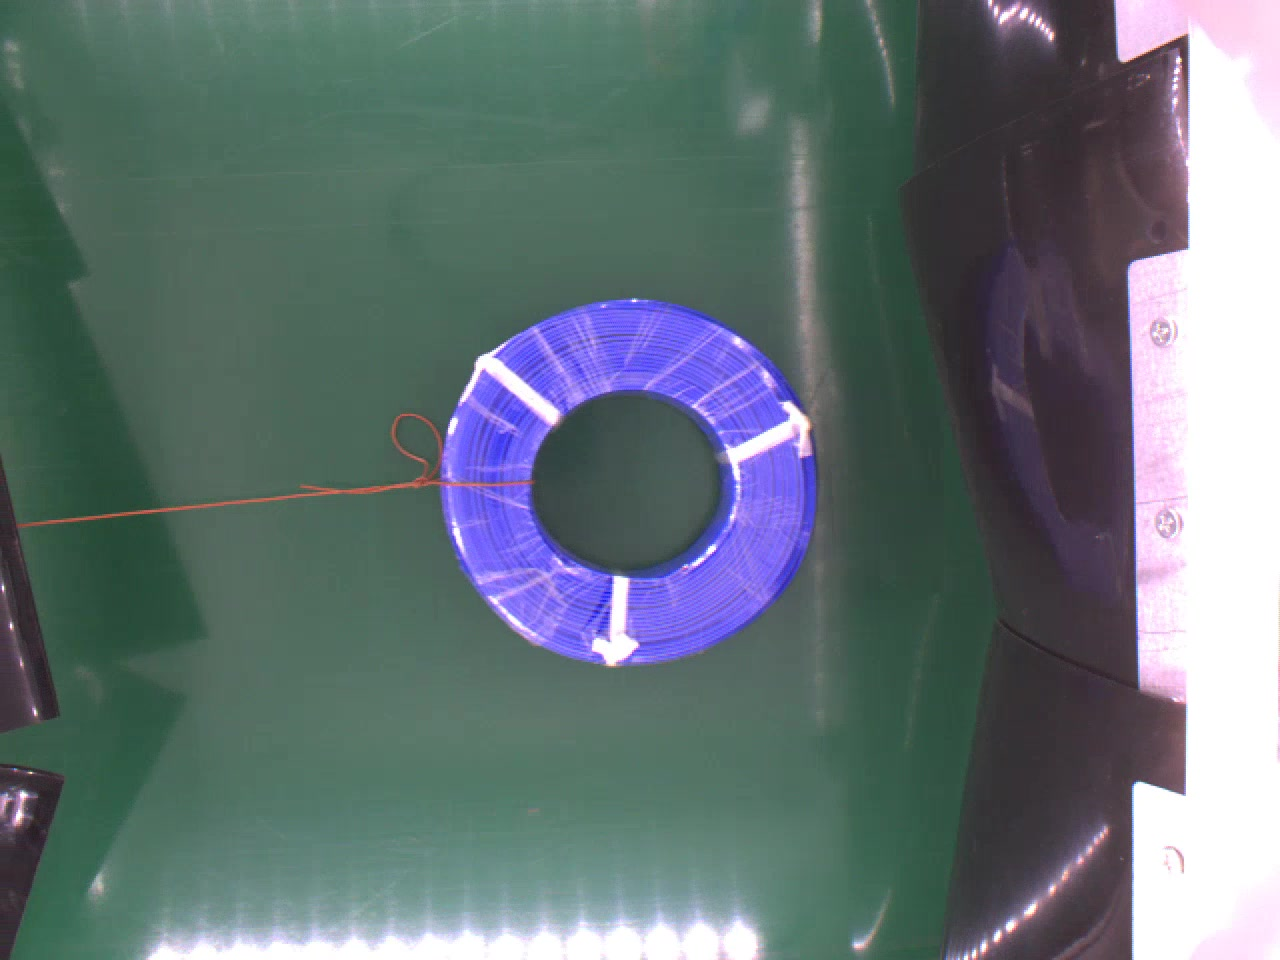blue: (434, 295, 829, 677)
